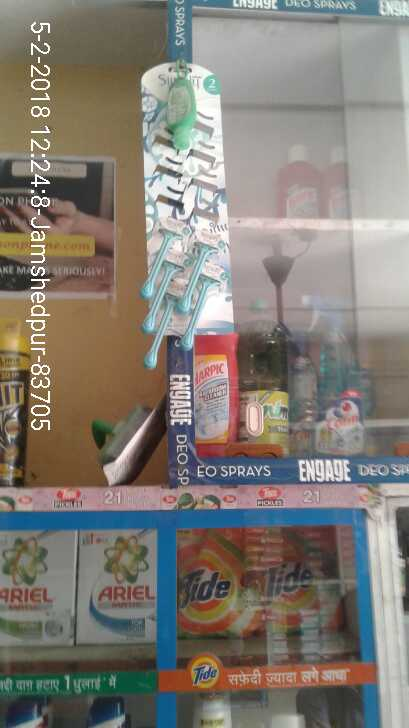home: (248, 528, 345, 633), (76, 531, 158, 648), (1, 529, 75, 651), (170, 530, 246, 639)
